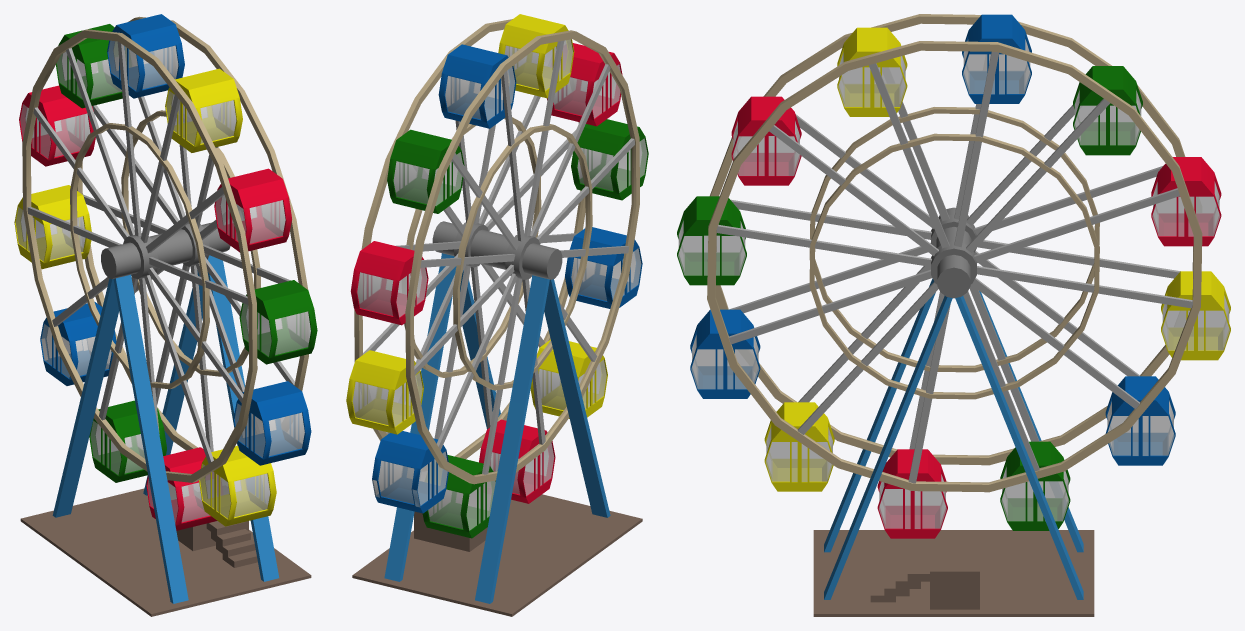
Rendered from FerrisANI.fbx.
3 views of the same model, side by side, from view 1: azimuth 30°, elevation 25°; view 2: azimuth 150°, elevation 25°; view 3: azimuth 270°, elevation 25° (orthographic). The views are drawn at different scales.
Parts seen in each view (by area): view 1: Stand, Base, Wheel, InnerWheel, Cart_6, Cart_7, Cart_8, Cart_5, Cart_9, Cart_10, SteelBeam_2, Cart_1 (+16 smaller); view 2: Base, Stand, Wheel, InnerWheel, Cart_2, Cart_1, Cart_12, Cart_11, Cart_10, Cart_6, Cart_9, Cart_7 (+14 smaller); view 3: Wheel, Base, InnerWheel, Stand, SteelBeam_4, SteelBeam_3, SteelBeam_5, SteelBeam_2, SteelBeam_7, Cart_4, Cart_5, Cart_2 (+14 smaller).
Part boxes in pixels (x1,y1,x2,y2): Stand: (52, 255, 279, 603); Base: (20, 488, 311, 616); Wheel: (22, 16, 308, 482); InnerWheel: (70, 110, 260, 389); Cart_6: (233, 381, 311, 465); Cart_7: (239, 280, 317, 364); Cart_8: (214, 168, 291, 252); Cart_5: (199, 445, 276, 526); Cart_9: (165, 68, 242, 152); Cart_10: (107, 14, 184, 98); SteelBeam_2: (66, 48, 244, 463); Cart_1: (14, 185, 91, 269); Base: (352, 494, 642, 616); Stand: (384, 253, 610, 603); Wheel: (354, 19, 639, 484); InnerWheel: (404, 117, 592, 390); Cart_2: (372, 431, 448, 513); Cart_1: (346, 350, 423, 434); Cart_12: (350, 241, 428, 325); Cart_11: (387, 129, 464, 213); Cart_10: (438, 44, 516, 128); Cart_6: (565, 227, 642, 308); Cart_9: (498, 14, 574, 98); Cart_7: (571, 119, 648, 200); Wheel: (707, 14, 1202, 492); Base: (813, 530, 1094, 616); InnerWheel: (809, 107, 1099, 399); Stand: (824, 278, 1083, 599); SteelBeam_4: (716, 199, 1192, 308); SteelBeam_3: (729, 165, 1179, 344); SteelBeam_5: (769, 114, 1139, 409); SteelBeam_2: (797, 98, 1110, 434); SteelBeam_7: (869, 63, 1039, 471); Cart_4: (877, 449, 947, 538); Cart_5: (764, 402, 834, 491); Cart_2: (1105, 376, 1175, 465).
Bounding box in the file's own units: 3.53 × 10.76 × 9.85.
